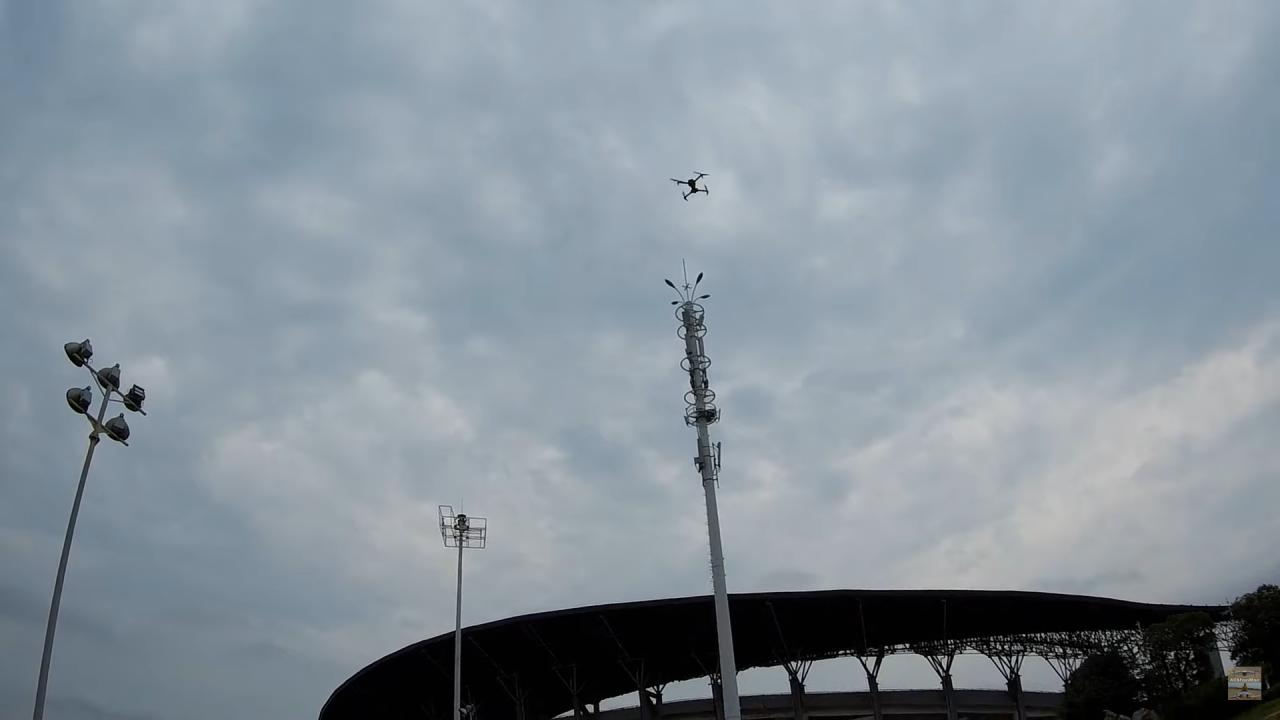Drone: (662, 162, 722, 210)
